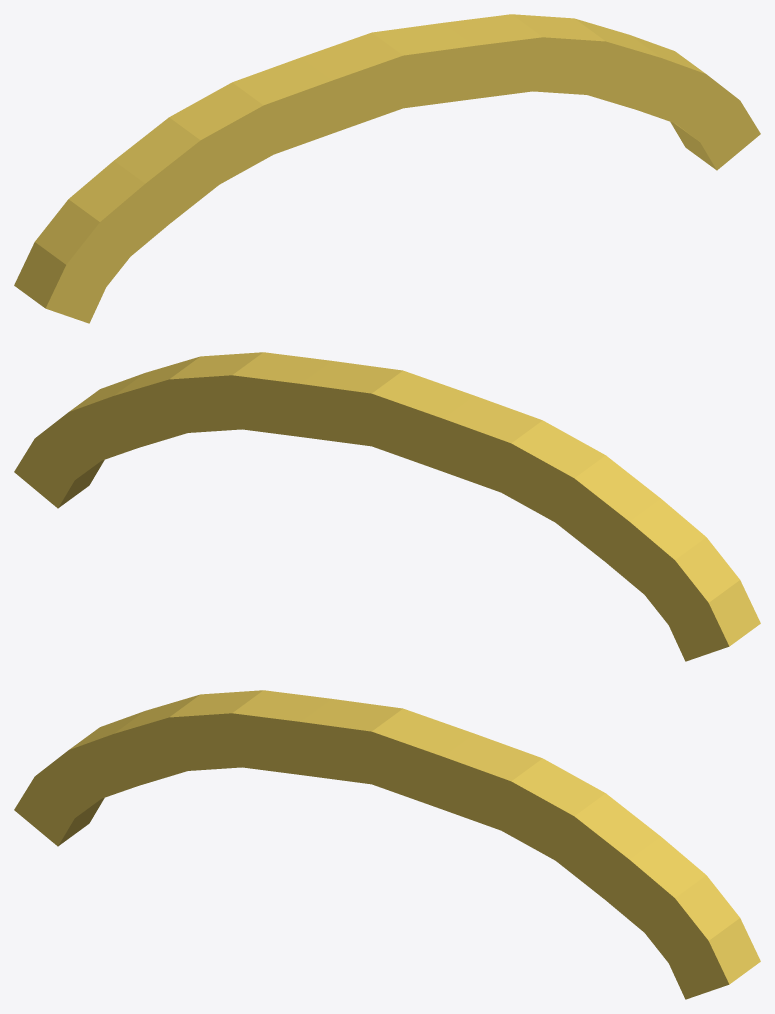
The model's file is 木板拱门.fbx.
The picture shows the model from 3 angles, top to bottom: view 1: azimuth 30°, elevation 25°; view 2: azimuth 150°, elevation 25°; view 3: azimuth 330°, elevation 25°; orthographic projection.
Visible parts, largest first — view 1: M.wood.1; view 2: M.wood.1; view 3: M.wood.1.
Part boxes in pixels (x1=…): M.wood.1: x1=14, y1=14, x2=760, y2=323; M.wood.1: x1=14, y1=352, x2=760, y2=661; M.wood.1: x1=14, y1=690, x2=760, y2=999.
Bounding box in the file's own units: 825 × 211 × 62.95.
